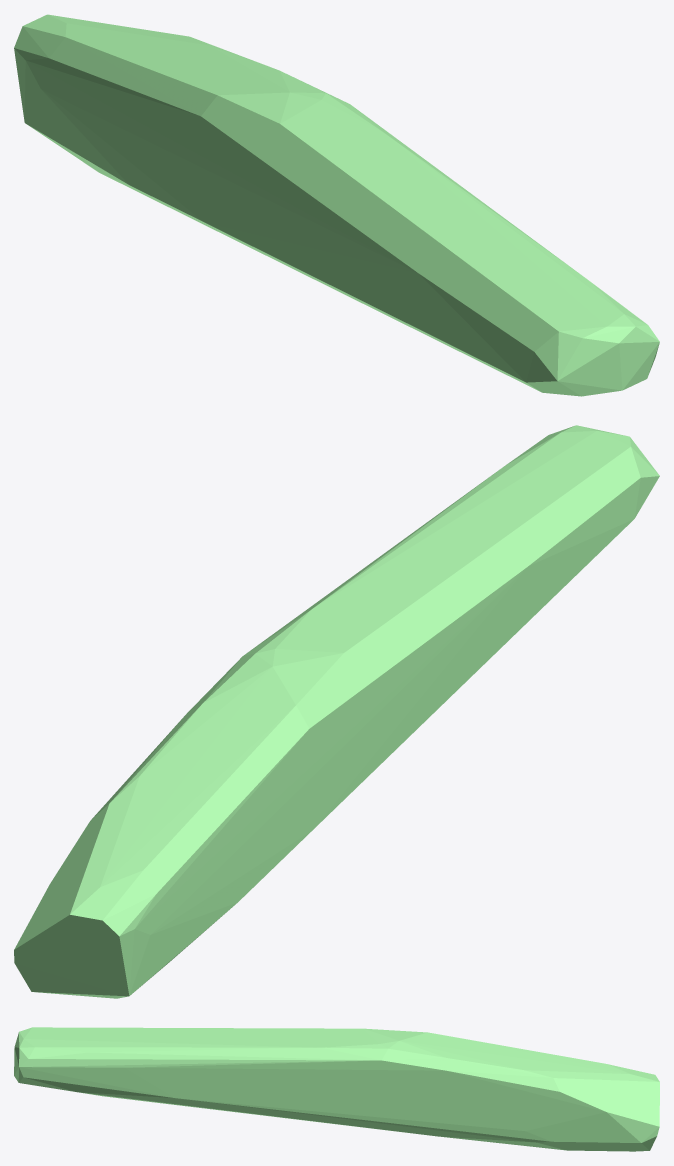
File: dvkr_robot_Lp2_respondable_PSM2_coll_4.dae
3 renders of one model, top to bottom at view 1: azimuth 30°, elevation 25°; view 2: azimuth 150°, elevation 25°; view 3: azimuth 270°, elevation 25°, orthographic. The views are drawn at different scales.
Parts seen in each view (by area): view 1: Node_0000023515112AF0; view 2: Node_0000023515112AF0; view 3: Node_0000023515112AF0.
Boxes of the visible parts, x1,y1,x2,y2 form: Node_0000023515112AF0: [14, 14, 659, 396]; Node_0000023515112AF0: [14, 425, 659, 998]; Node_0000023515112AF0: [14, 1027, 659, 1151].
Size of the model in its own units: 0.0244 by 0.0379 by 0.2124.
